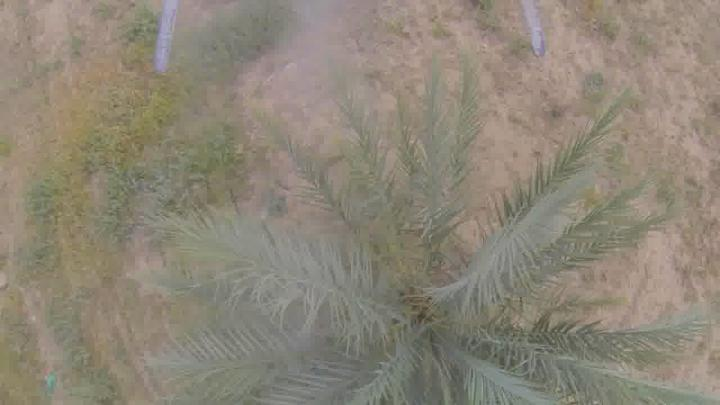Date-Palm-Crown: (266, 188, 576, 404)
